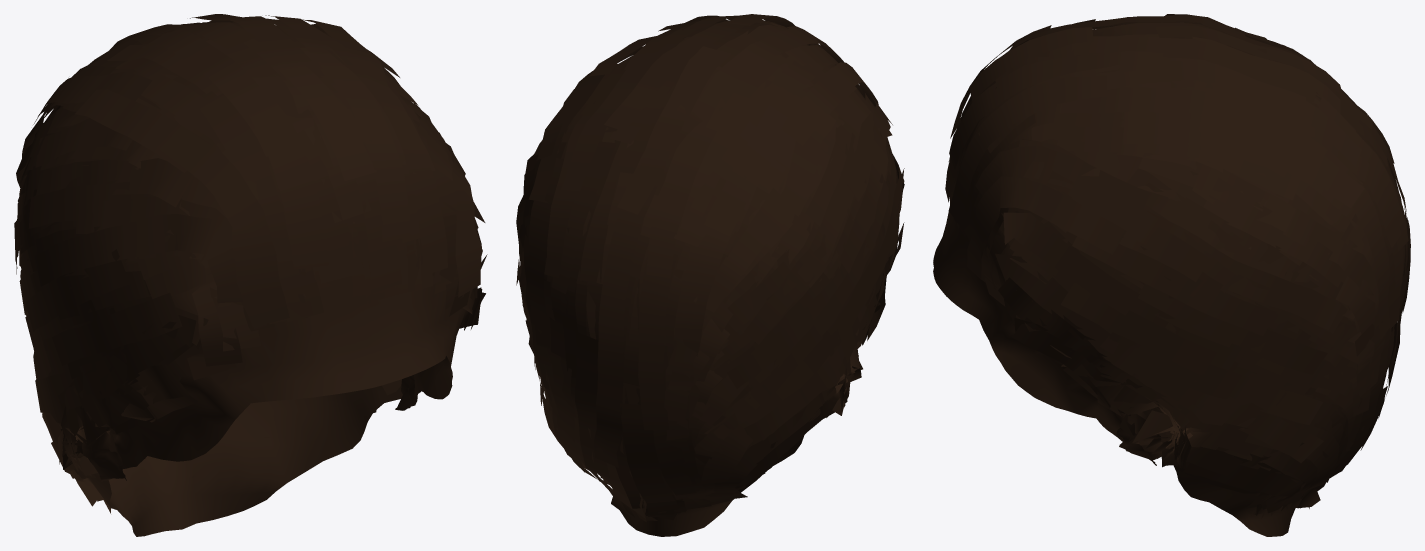
File: hair_swept.glb
3 renders of one model, left to right at view 1: azimuth 30°, elevation 25°; view 2: azimuth 150°, elevation 25°; view 3: azimuth 270°, elevation 25°, orthographic. The views are drawn at different scales.
Parts seen in each view (by area): view 1: hair_swept; view 2: hair_swept; view 3: hair_swept.
Part boxes in pixels (left/top/right/bottom): hair_swept: left=14, top=14, right=487, bottom=536; hair_swept: left=516, top=14, right=904, bottom=536; hair_swept: left=933, top=14, right=1410, bottom=536.
Bounding box in the file's own units: 0.198 × 0.2741 × 0.2403.
